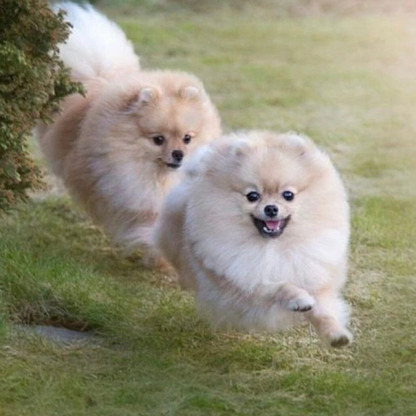Pomeranian: (176, 129, 358, 357), (34, 39, 212, 264)
